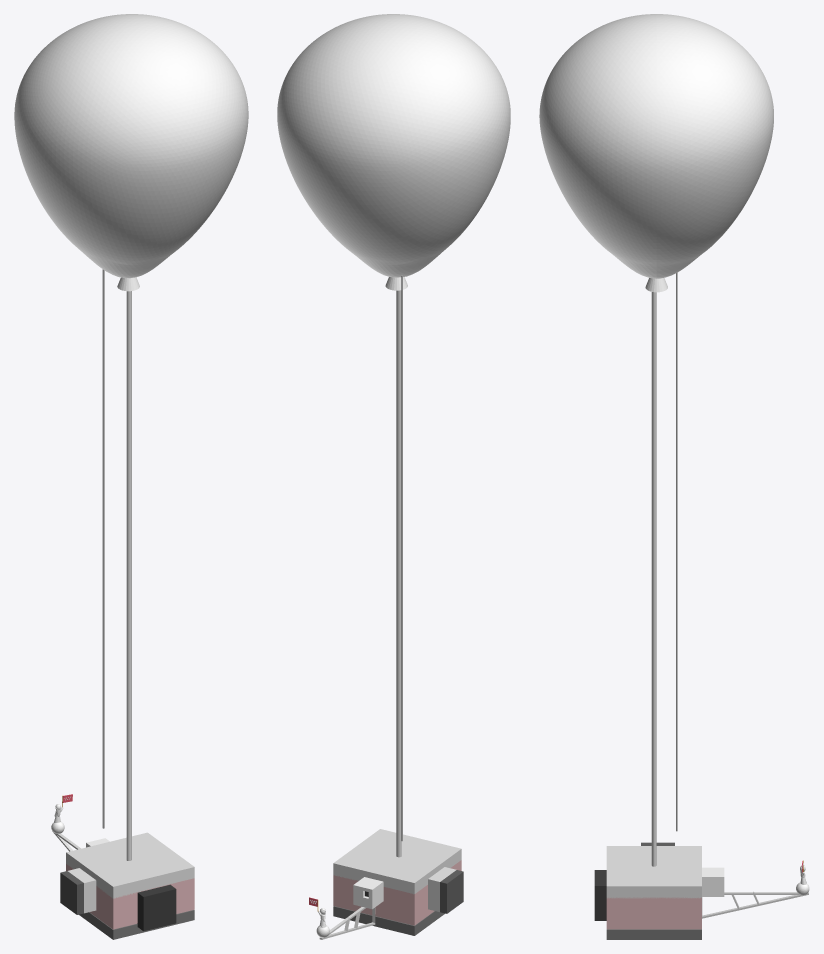
File: globo.glb
3 renders of one model, left to right at view 1: azimuth 30°, elevation 25°; view 2: azimuth 150°, elevation 25°; view 3: azimuth 270°, elevation 25°, orthographic.
Parts seen in each view (by area): view 1: Mesh_Mesh_head_geo.001_lambert2SG.002, Mesh_Mesh_head_geo.001_lambert2SG.001, Cubo.002, Cilindro.003, Cubo.001, Cilindro, Cubo.010, Cubo.009, Cubo; view 2: Mesh_Mesh_head_geo.001_lambert2SG.002, Mesh_Mesh_head_geo.001_lambert2SG.001, Cubo.002, Cilindro.003, Cubo.001, Cubo.009, Cilindro, Cubo, Cubo.003; view 3: Mesh_Mesh_head_geo.001_lambert2SG.001, Mesh_Mesh_head_geo.001_lambert2SG.002, Cubo.002, Cilindro.003, Cubo.001, Cilindro, Cubo, Cubo.003, Cubo.010.
Part boxes in pixels (bbox=[...]): Mesh_Mesh_head_geo.001_lambert2SG.002: bbox=[14, 14, 225, 291]; Mesh_Mesh_head_geo.001_lambert2SG.001: bbox=[120, 25, 248, 290]; Cubo.002: bbox=[66, 832, 194, 898]; Cilindro.003: bbox=[126, 291, 131, 860]; Cubo.001: bbox=[66, 864, 194, 929]; Cilindro: bbox=[102, 269, 104, 828]; Cubo.010: bbox=[137, 884, 176, 931]; Cubo.009: bbox=[60, 868, 96, 914]; Cubo: bbox=[79, 910, 194, 939]; Mesh_Mesh_head_geo.001_lambert2SG.002: bbox=[300, 14, 510, 290]; Mesh_Mesh_head_geo.001_lambert2SG.001: bbox=[277, 24, 390, 288]; Cubo.002: bbox=[333, 829, 461, 894]; Cilindro.003: bbox=[396, 290, 401, 857]; Cubo.001: bbox=[333, 860, 461, 925]; Cubo.009: bbox=[428, 867, 463, 913]; Cilindro: bbox=[401, 275, 402, 841]; Cubo: bbox=[333, 906, 444, 935]; Cubo.003: bbox=[353, 877, 383, 909]; Mesh_Mesh_head_geo.001_lambert2SG.001: bbox=[540, 57, 773, 292]; Mesh_Mesh_head_geo.001_lambert2SG.002: bbox=[539, 14, 773, 288]; Cubo.002: bbox=[606, 846, 701, 898]; Cilindro.003: bbox=[651, 292, 656, 866]; Cubo.001: bbox=[606, 897, 701, 929]; Cilindro: bbox=[676, 272, 677, 831]; Cubo: bbox=[606, 929, 701, 939]; Cubo.003: bbox=[702, 867, 724, 896]; Cubo.010: bbox=[594, 870, 606, 920].
Bounding box in the file's own units: 4.99 × 20.73 × 5.67.
